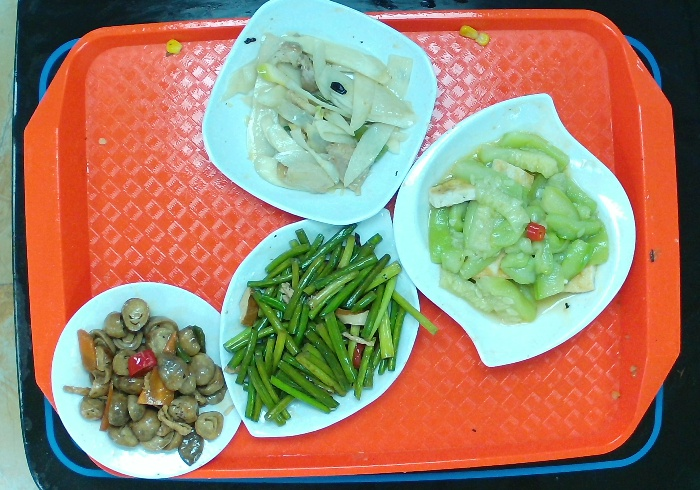RJxy-Da_Du_Pan: (214, 202, 425, 441)
RJxy-Shuang_Jiao_Pan: (390, 91, 640, 376)
RJxy-Si_Fang_Wan: (196, 1, 441, 229)
RJxy-Xiao_Yuan_Die: (46, 276, 252, 485)
